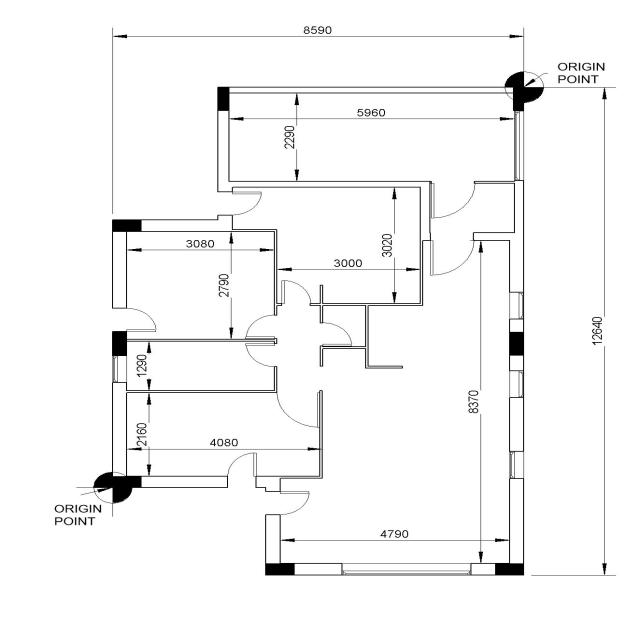Column: (265, 563, 295, 576), (112, 219, 141, 232), (509, 332, 524, 356), (112, 332, 127, 356), (495, 563, 524, 575), (113, 476, 142, 488), (218, 87, 230, 111), (513, 87, 524, 111)
Door: (430, 232, 474, 276), (430, 181, 476, 218), (276, 390, 320, 428), (265, 491, 309, 515), (112, 308, 156, 332), (227, 453, 256, 488), (218, 192, 262, 215), (245, 343, 278, 367), (320, 322, 351, 347), (282, 280, 311, 306), (246, 315, 277, 339)
Window: (342, 563, 471, 575), (515, 111, 524, 181), (509, 370, 524, 398), (112, 356, 127, 384), (509, 292, 524, 319), (509, 452, 524, 478)
